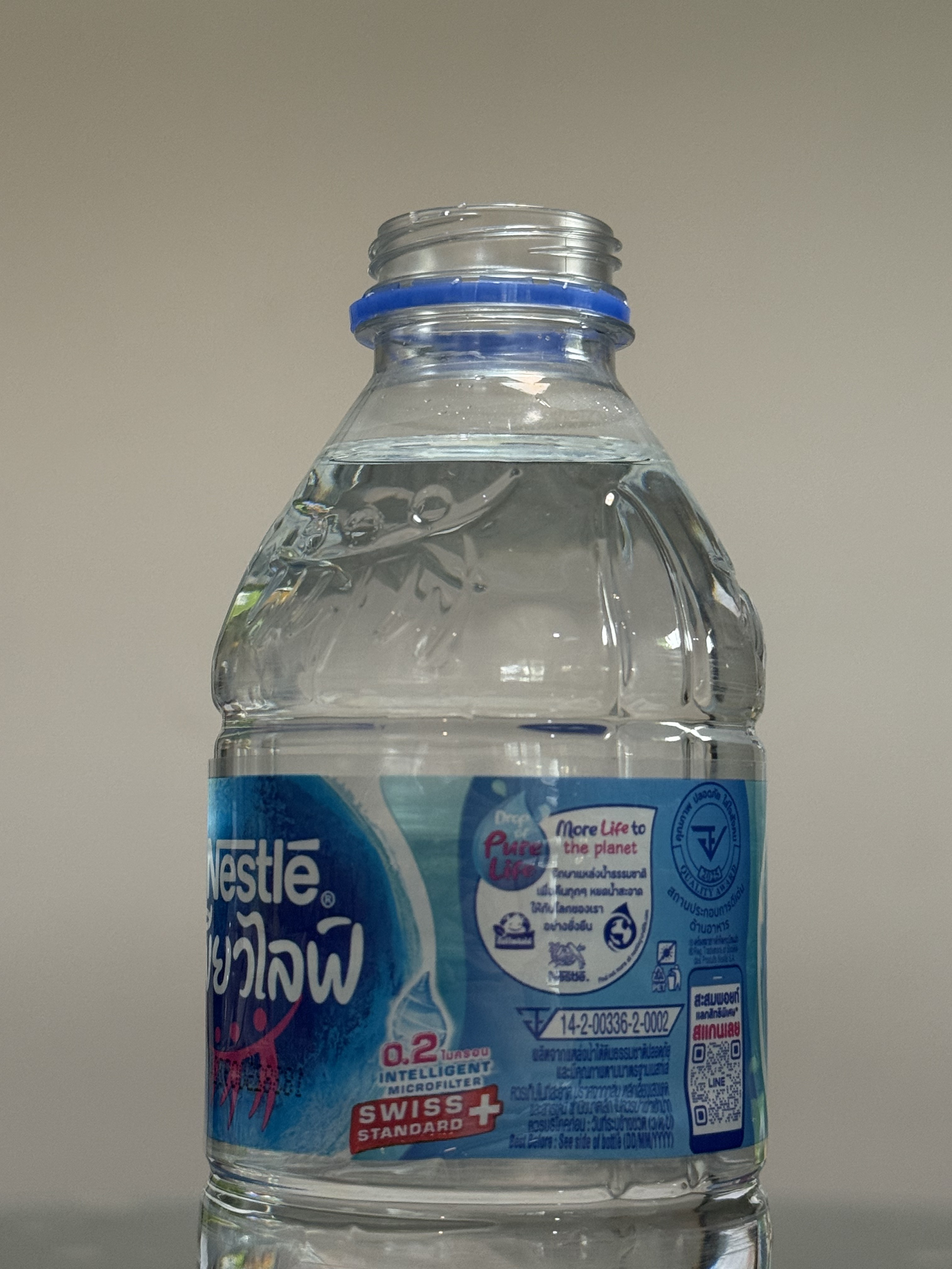no_cap: (348, 197, 635, 330)
